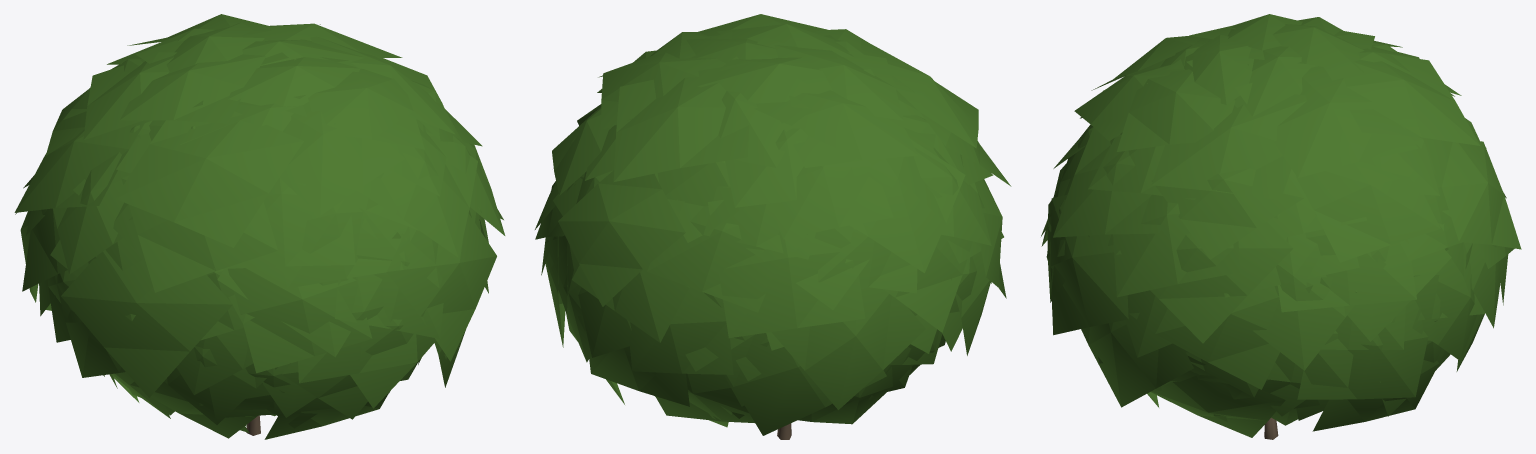
File: bush_verge.glb
The picture shows the model from 3 angles, left to right: view 1: azimuth 30°, elevation 25°; view 2: azimuth 150°, elevation 25°; view 3: azimuth 270°, elevation 25°; orthographic projection.
Parts seen in each view (by area): view 1: bush_verge_lod0; view 2: bush_verge_lod0; view 3: bush_verge_lod0.
Part boxes in pixels (bbox=[...]): bush_verge_lod0: bbox=[14, 14, 505, 439]; bush_verge_lod0: bbox=[535, 14, 1011, 439]; bush_verge_lod0: bbox=[1041, 14, 1521, 439].
Size of what is drawn, in the model's own units: 1.13 by 0.9857 by 1.13.
